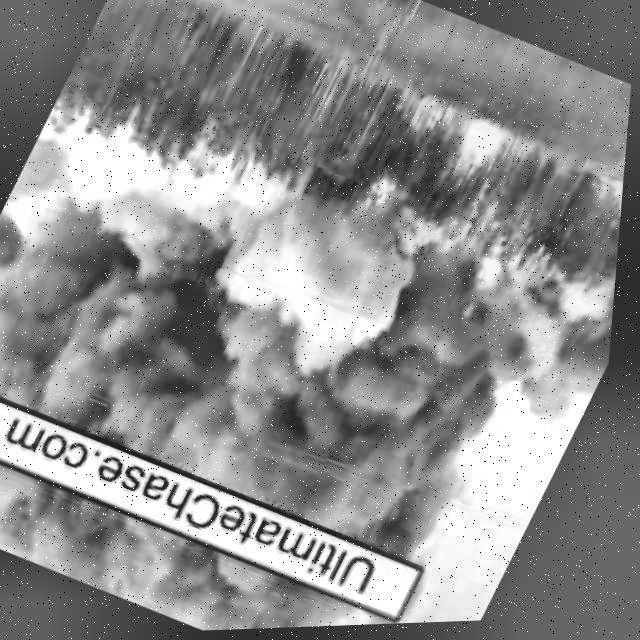Fire: (457, 247, 523, 325), (446, 119, 508, 189), (403, 92, 441, 133), (612, 188, 627, 224)
Smoke: (0, 91, 575, 585), (0, 406, 373, 640)
